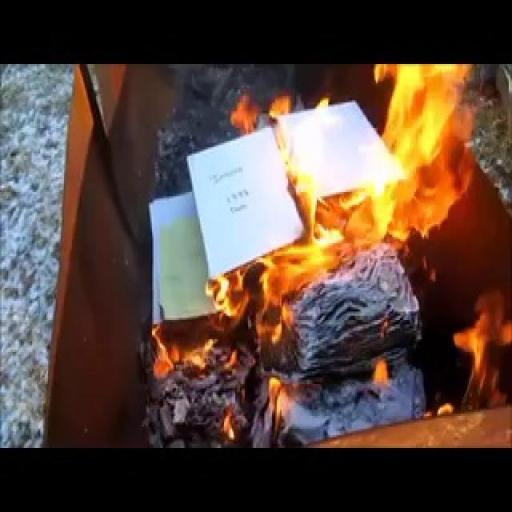smoke: (210, 66, 480, 292), (150, 301, 268, 399)
